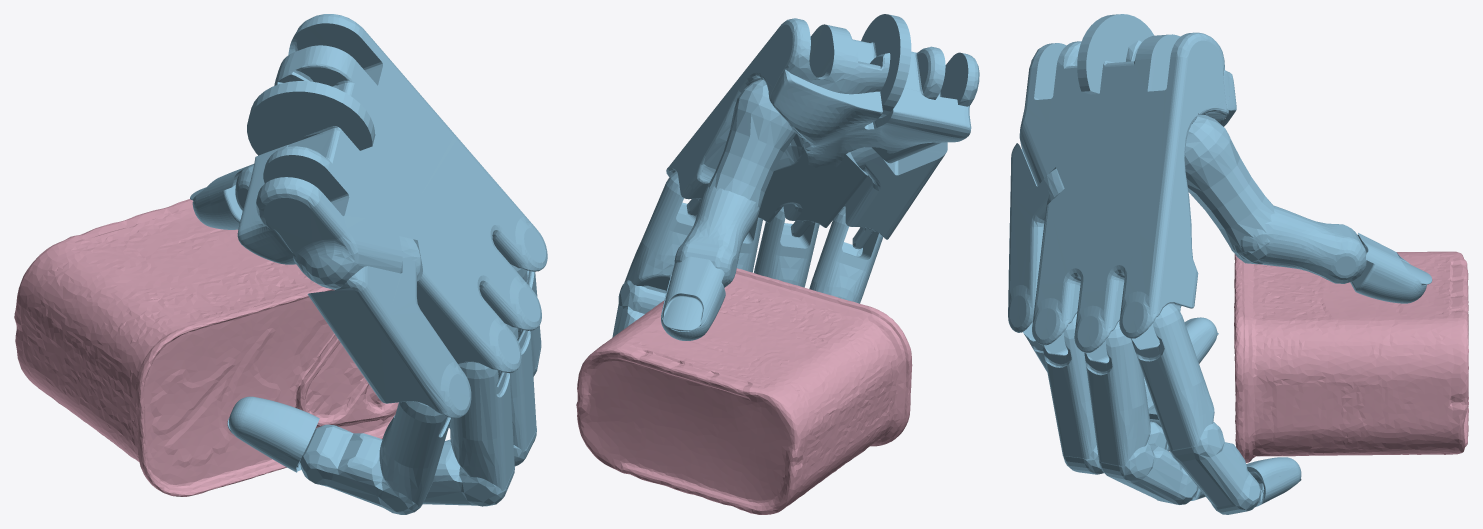
The picture shows the model from 3 angles, left to right: view 1: azimuth 30°, elevation 25°; view 2: azimuth 150°, elevation 25°; view 3: azimuth 270°, elevation 25°; orthographic projection. The views are drawn at different scales.
Parts seen in each view (by area): view 1: world; view 2: world; view 3: world.
Part boxes in pixels (x1,y1,x2,y2): world: (14,14,547,514); world: (576,14,979,514); world: (1008,14,1468,514).
Size of the model in its own units: 0.1336 by 0.1679 by 0.164.
